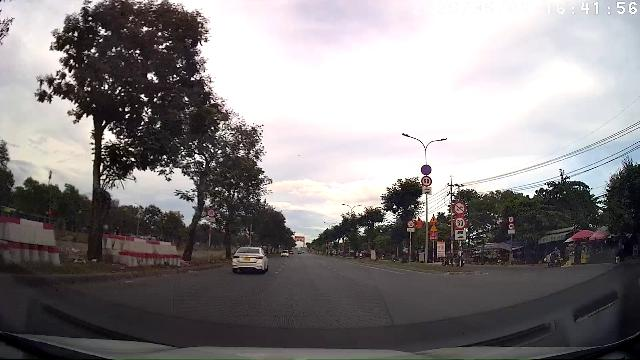127-toc-do-toi-da-60: (454, 216, 466, 230)
127-toc-do-toi-da-80: (422, 176, 432, 186)
130-cam-dung-va-do-xe: (421, 164, 432, 176)
